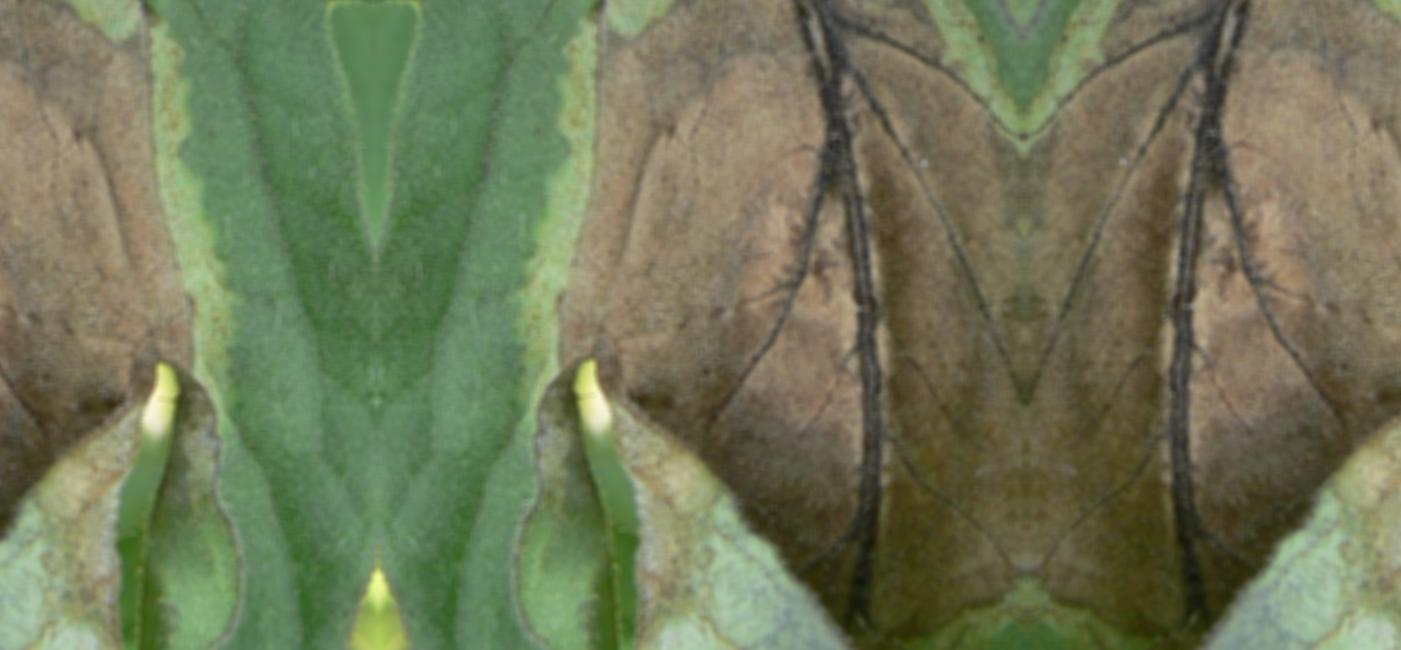Tomato leaf late blight: (370, 0, 1031, 650)
